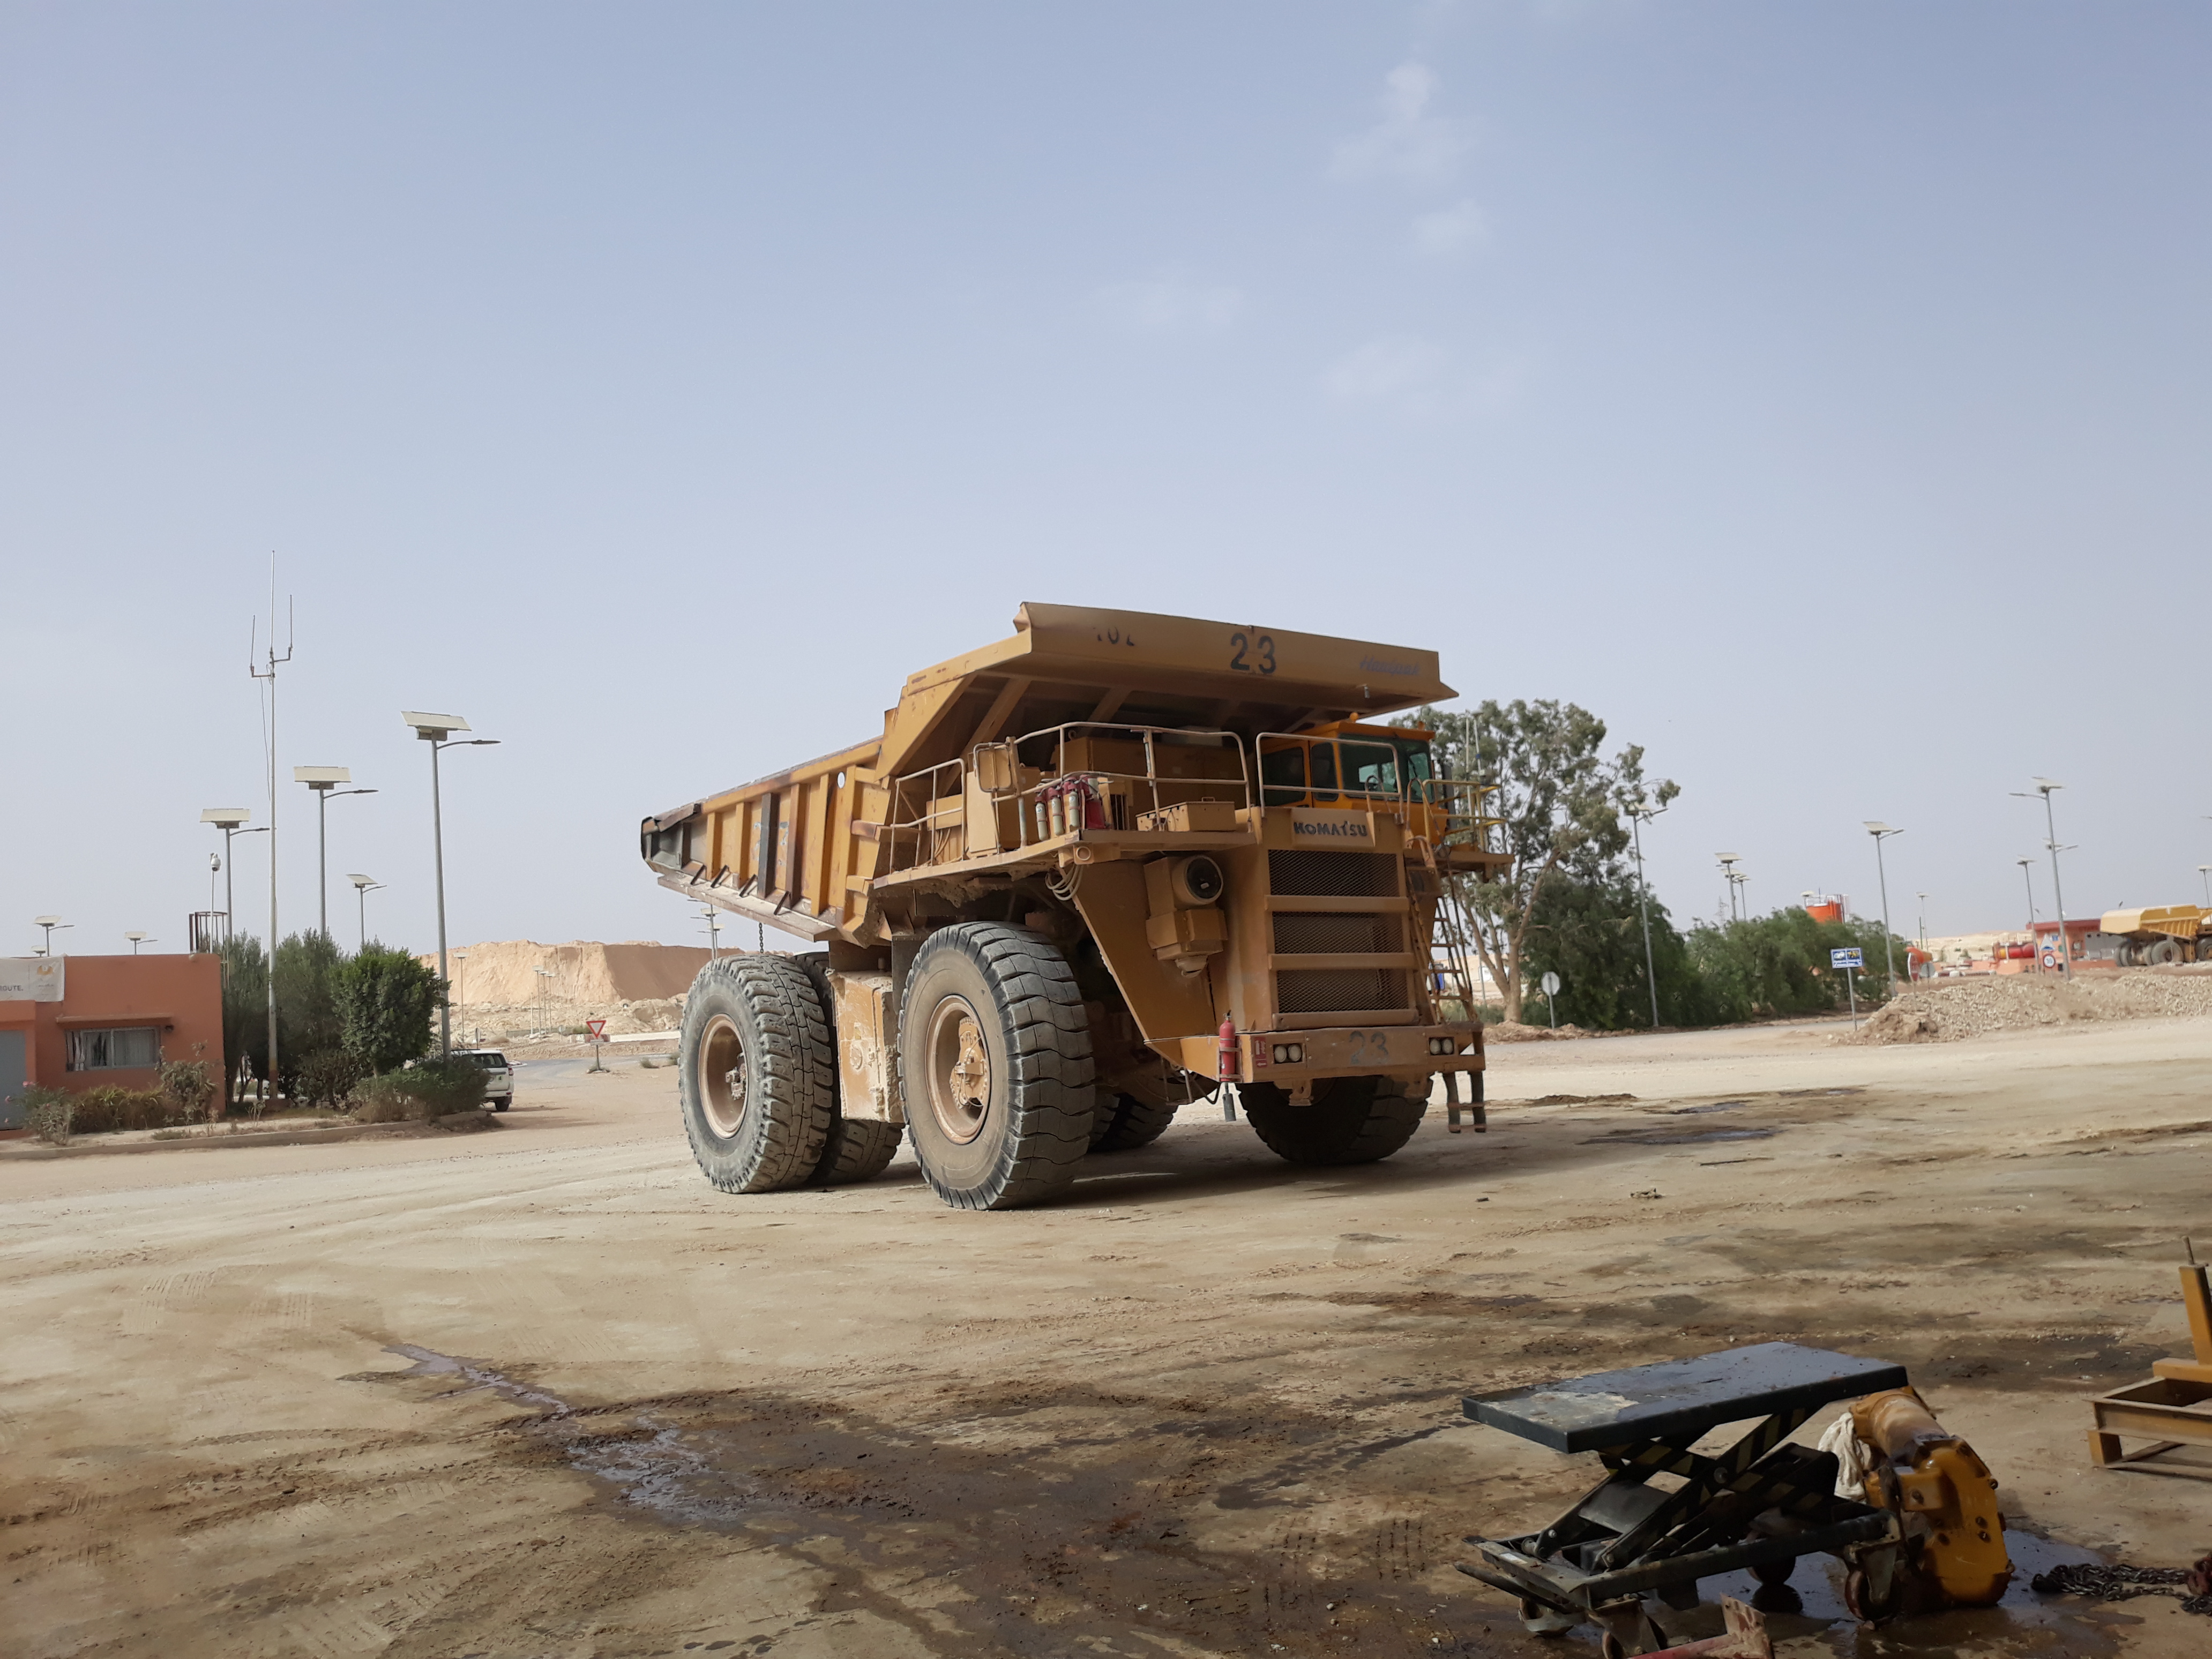camion: (622, 603, 1510, 1234)
car: (427, 1025, 535, 1136)
